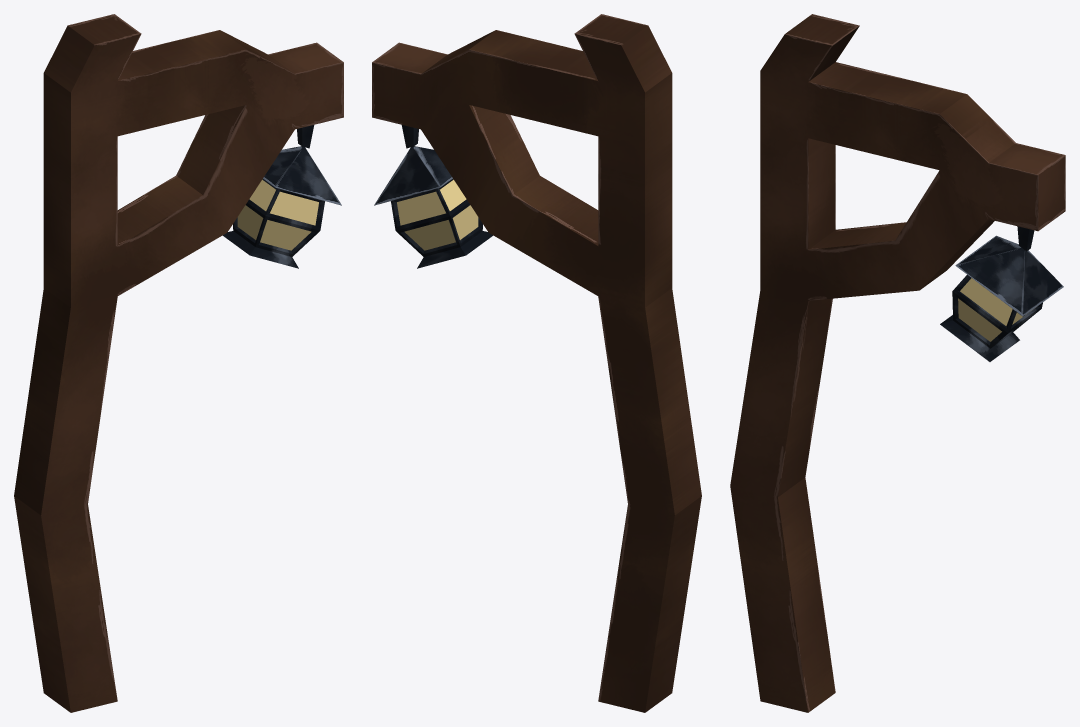
Rendered from ruined_LAMP_LP.fbx.
3 renders of one model, left to right at view 1: azimuth 30°, elevation 25°; view 2: azimuth 150°, elevation 25°; view 3: azimuth 330°, elevation 25°, orthographic.
Visible parts, largest first — view 1: Ruined_lamba; view 2: Ruined_lamba; view 3: Ruined_lamba.
Part boxes in pixels (x1,y1,x2,y2): Ruined_lamba: (14, 14, 343, 712); Ruined_lamba: (372, 14, 701, 712); Ruined_lamba: (730, 14, 1065, 712).
Bounding box in the file's own units: 254 × 531 × 58.56.
Materials: 2 (1 with a texture image).
